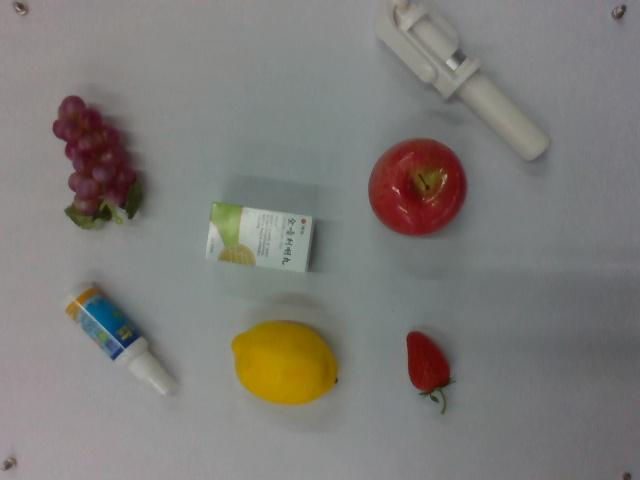apple: (368, 139, 468, 237)
carton: (200, 197, 315, 282)
detergent: (60, 279, 179, 398)
grape: (52, 96, 143, 227)
lemon: (232, 319, 342, 407)
selfiestick: (375, 0, 552, 166)
strawberry: (402, 329, 459, 412)
